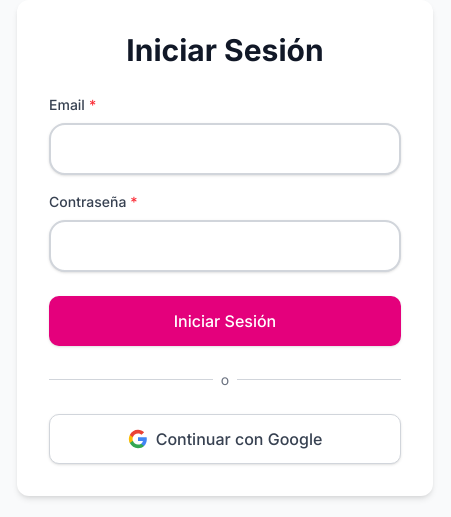
Test: LoginForm Integration Tests › Google OAuth Authentication Flow › should show loading state during Google OAuth
Step 1. Click the button "Continuar con Google" → [225, 438], box [49,414,401,464]
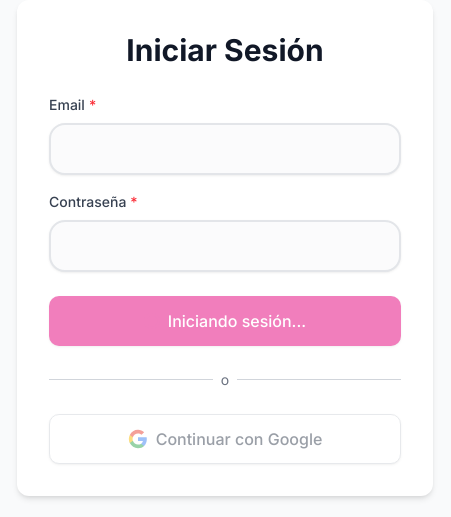
Check: the button "Continuar con Google" is disabled, box [49,414,401,464]
